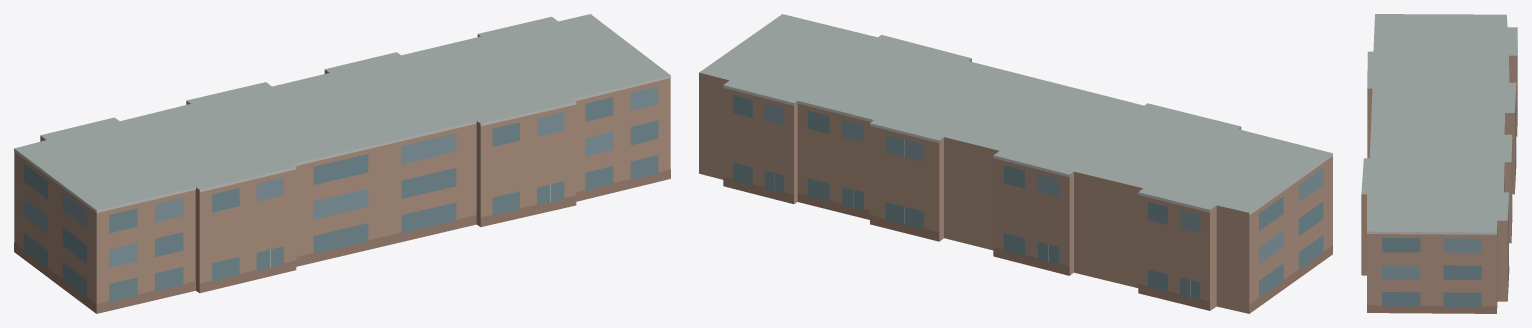
The model's file is survey-upis-32887158.glb.
3 renders of one model, left to right at view 1: azimuth 30°, elevation 25°; view 2: azimuth 150°, elevation 25°; view 3: azimuth 270°, elevation 25°, orthographic. The views are drawn at different scales.
Parts seen in each view (by area): view 1: survey-upis-32887158.tmp; view 2: survey-upis-32887158.tmp; view 3: survey-upis-32887158.tmp.
Boxes of the visible parts, bbox=[...] form: survey-upis-32887158.tmp: bbox=[14, 14, 670, 313]; survey-upis-32887158.tmp: bbox=[699, 14, 1332, 313]; survey-upis-32887158.tmp: bbox=[1361, 14, 1517, 313].
Size of the model in its own units: 52.86 by 9.15 by 15.97.
